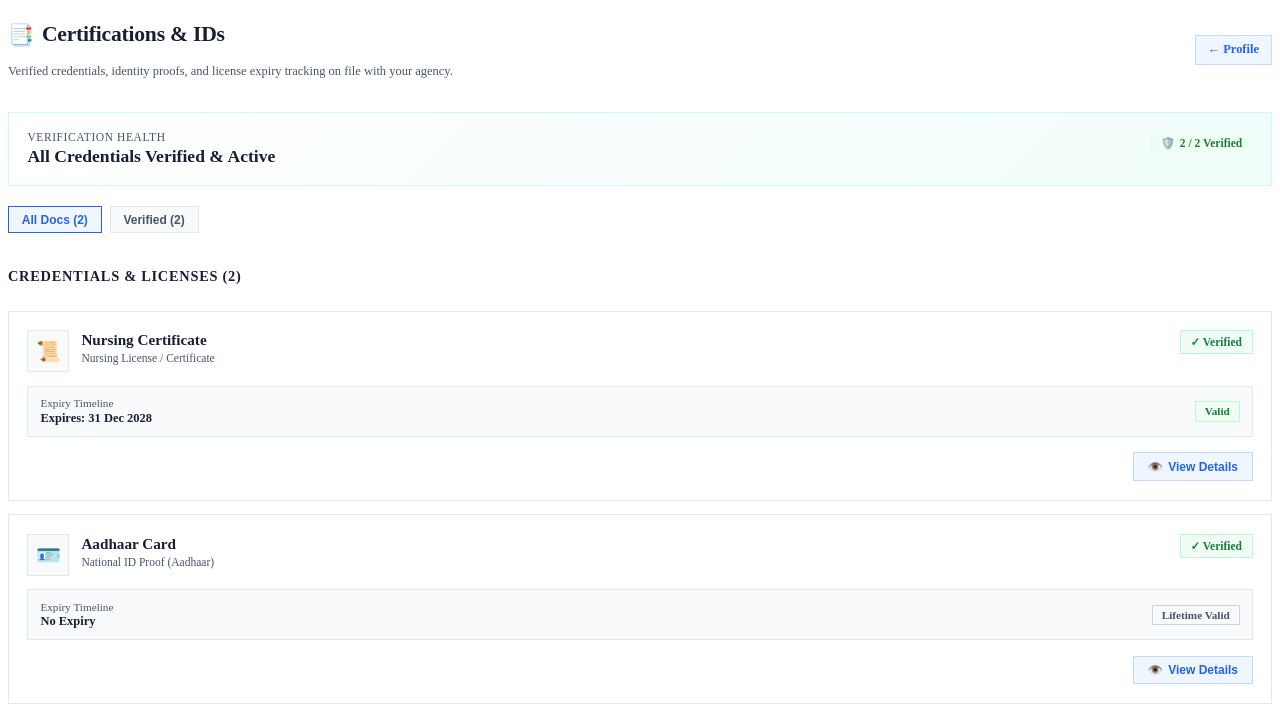
Test: Caregiver Self-Service Portal (Phase 7 — First Point) › Caregiver Documents & Certification Status (Phase 7 — Fifth Point) › should open document details modal on clicking View Details and allow closing
The width and height of the screenshot is (1280, 720).
Expected: the heading "Nursing Certificate" is shown, left=81, top=330, right=215, bottom=349
Click the 1st button "👁️ View Details" at (1193, 467), box left=1133, top=452, right=1253, bottom=481
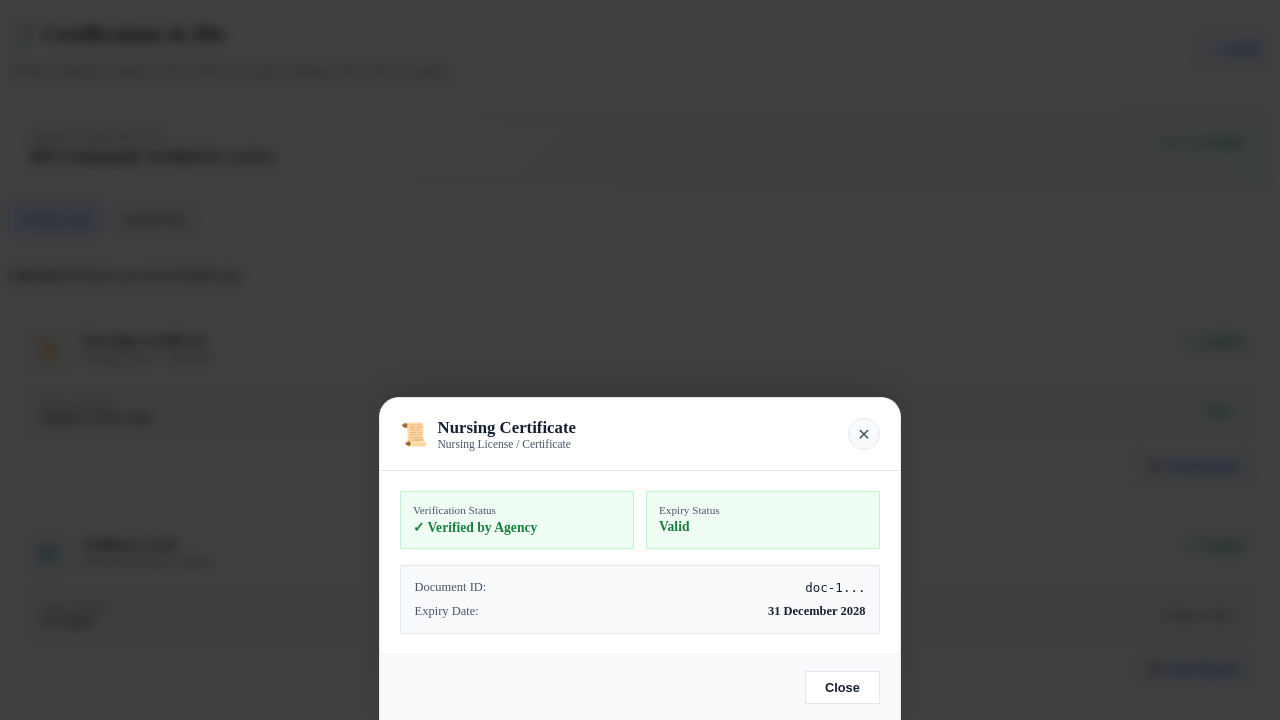
Expected: the dialog is shown
Expected: the text "Verification Status" is shown, left=413, top=504, right=496, bottom=516
Expected: the text "✓ Verified by Agency" is shown, left=413, top=520, right=537, bottom=535
Click the button named "Close document details" at (864, 434), box left=848, top=418, right=880, bottom=450
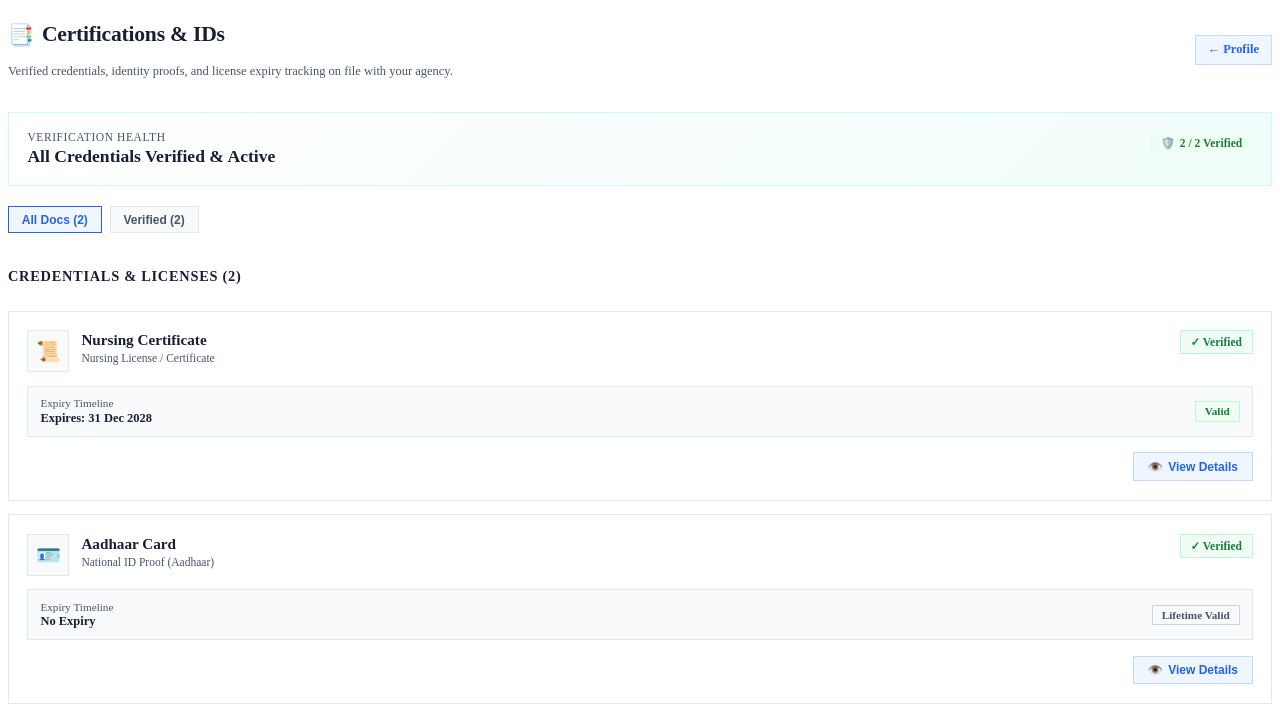
Expected: the dialog is gone
